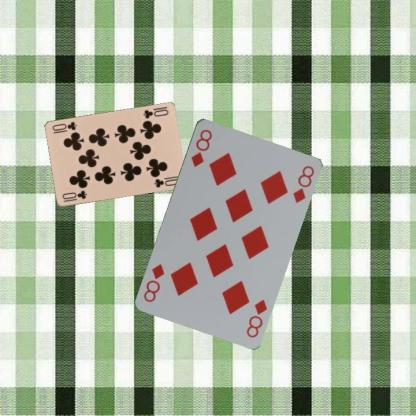10c: (59, 188, 88, 203), (140, 107, 170, 120)
8d: (188, 126, 213, 168), (243, 296, 268, 338)
